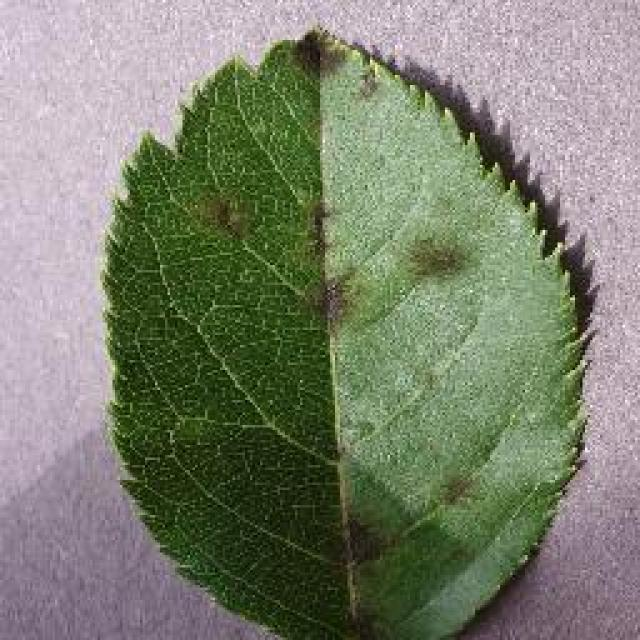apple scab disease: (98, 22, 598, 638)
